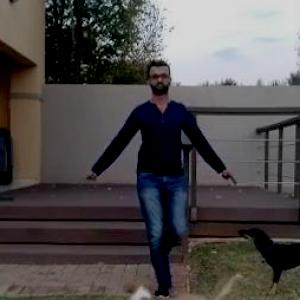land: (106, 78, 208, 268)
